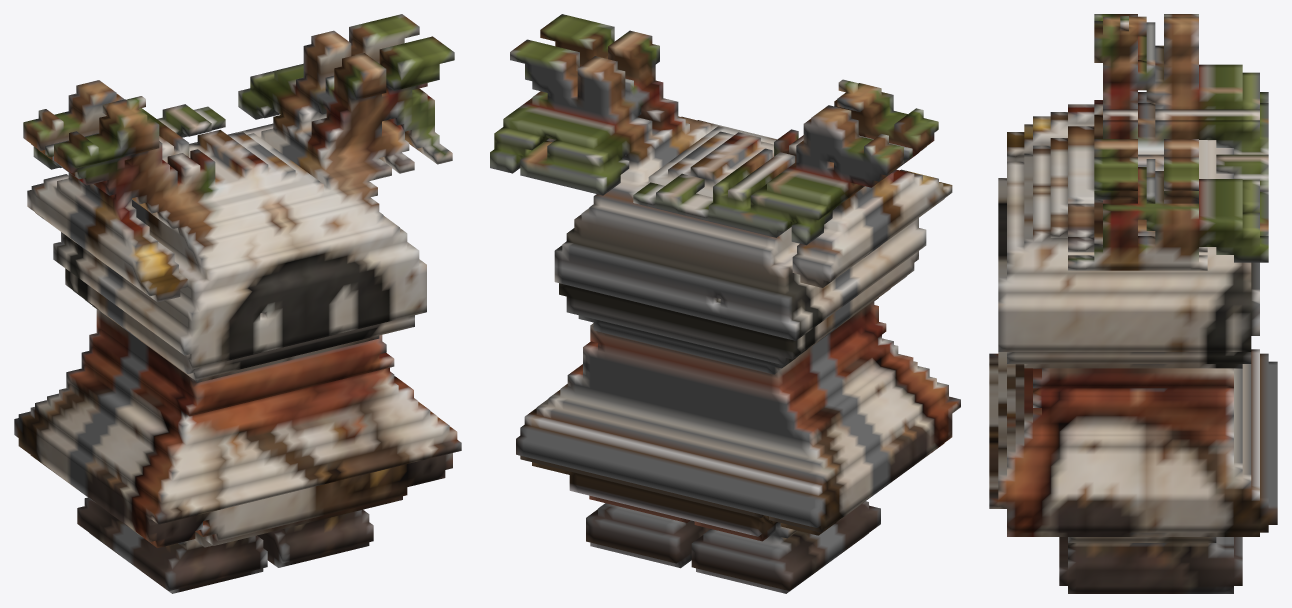
File: sheet2_L2.glb
3 renders of one model, left to right at view 1: azimuth 30°, elevation 25°; view 2: azimuth 150°, elevation 25°; view 3: azimuth 270°, elevation 25°, orthographic.
Visible parts, largest first — view 1: BPT_sheet2_L2; view 2: BPT_sheet2_L2; view 3: BPT_sheet2_L2.
Boxes of the visible parts, x1,y1,x2,y2 form: BPT_sheet2_L2: (14,14,461,593); BPT_sheet2_L2: (490,14,960,593); BPT_sheet2_L2: (989,14,1277,593).
Bounding box in the file's own units: 1.67 × 2 × 1.1.
